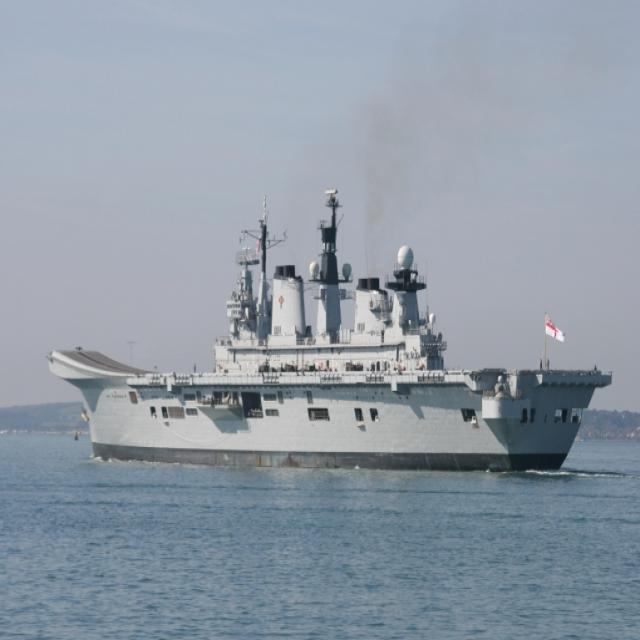Portanaves: (42, 182, 617, 476)
